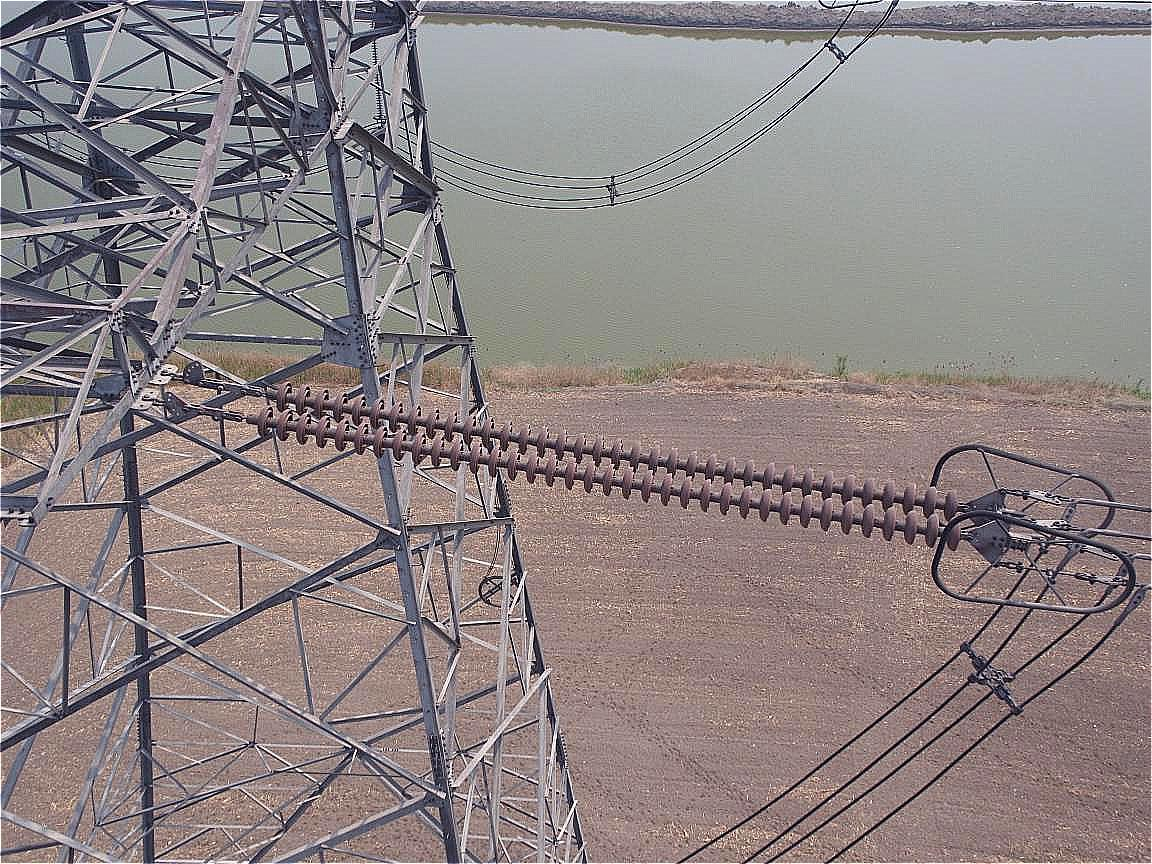insultor1: (215, 366, 972, 552)
